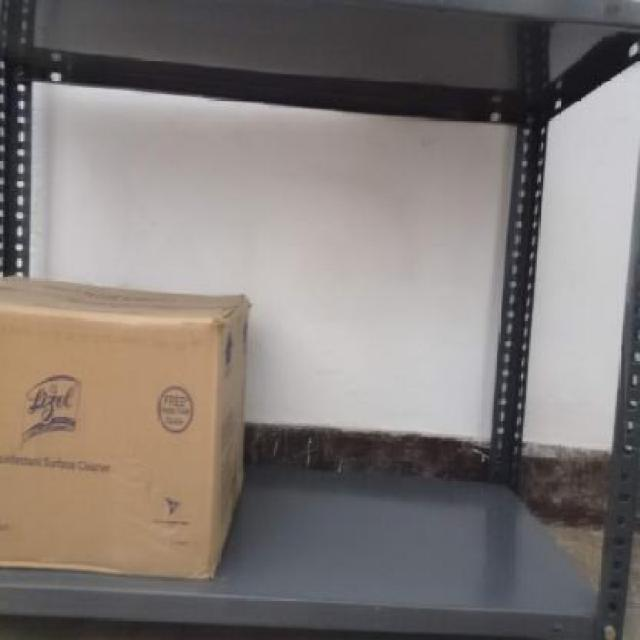box: (0, 311, 214, 580)
